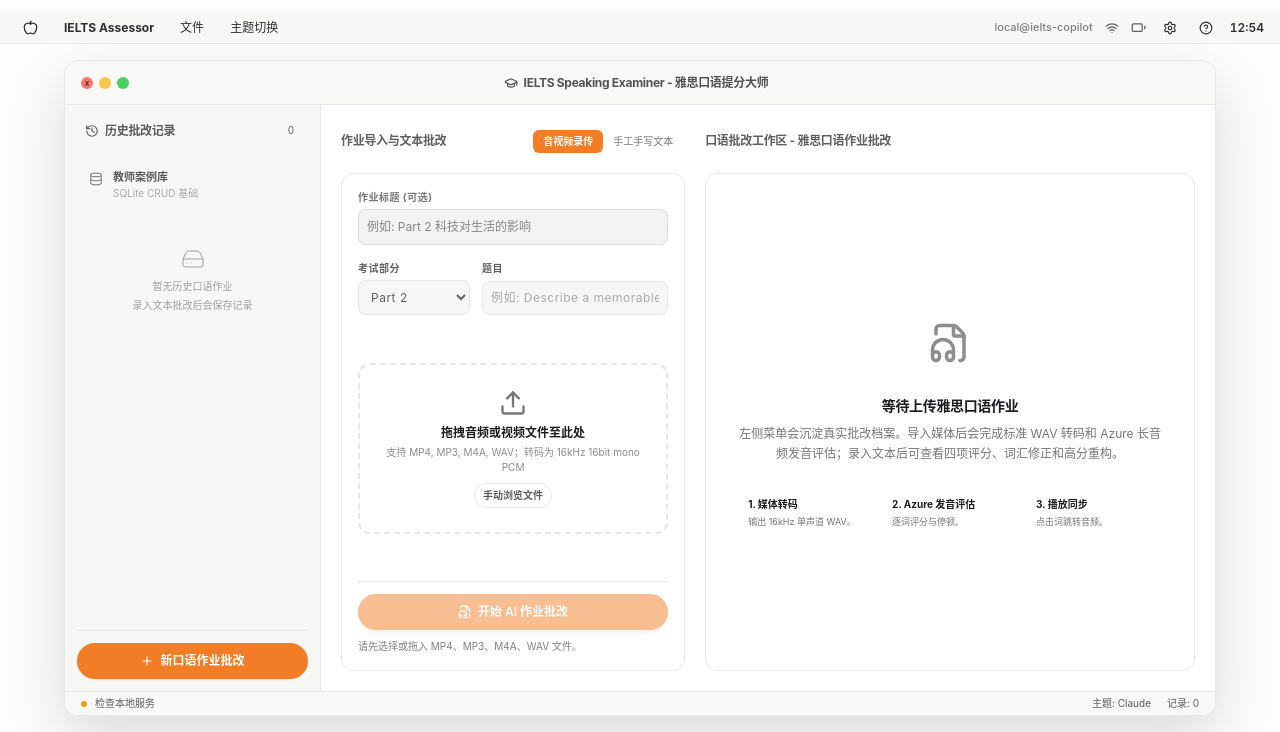
Test: App workspace › loads selected media metadata, transcodes it, and runs Azure speech assessment
Click the button "手动浏览文件": {"x": 513, "y": 495} [474,482,552,508]
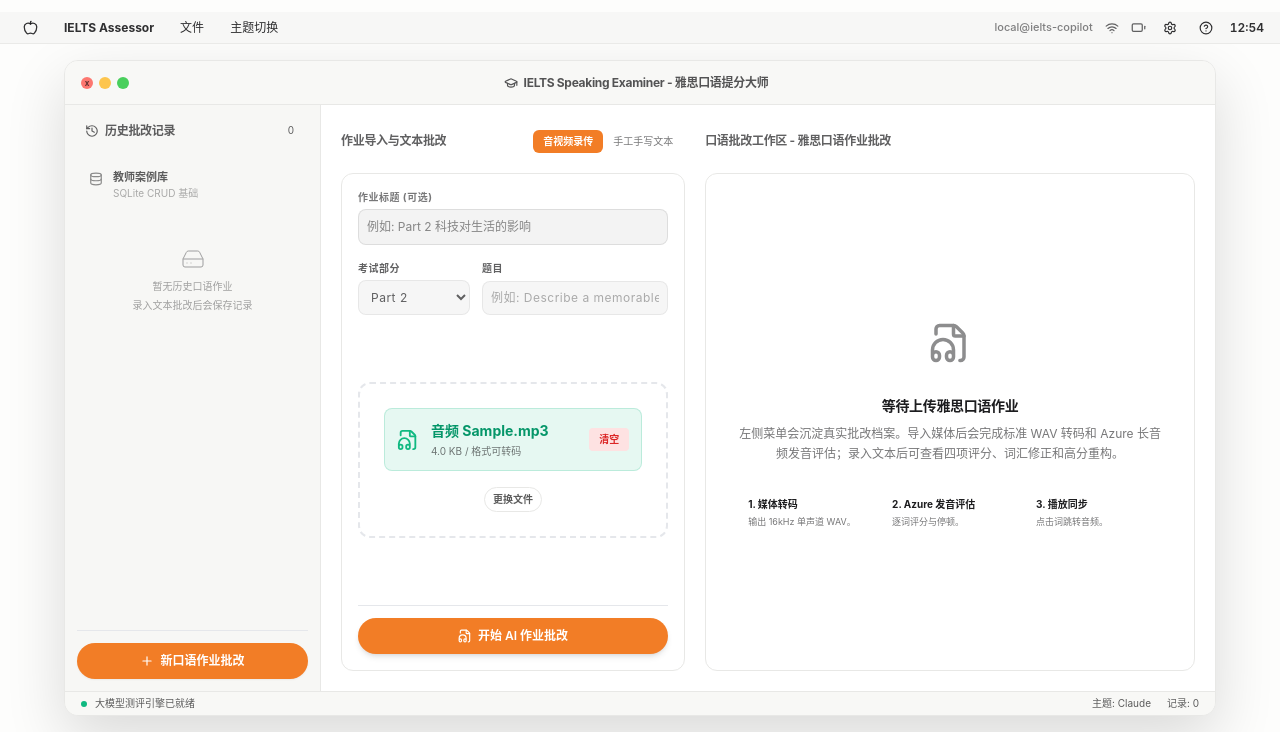
Expected: the text "音频 Sample.mp3" is shown, [431,421,549,441]
Expected: the button "更换文件" is shown, [484,487,542,512]
Expected: the text "拖拽音频或视频文件至此处" is gone
Click the button "开始 AI 作业批改": {"x": 513, "y": 636} [358,618,668,654]
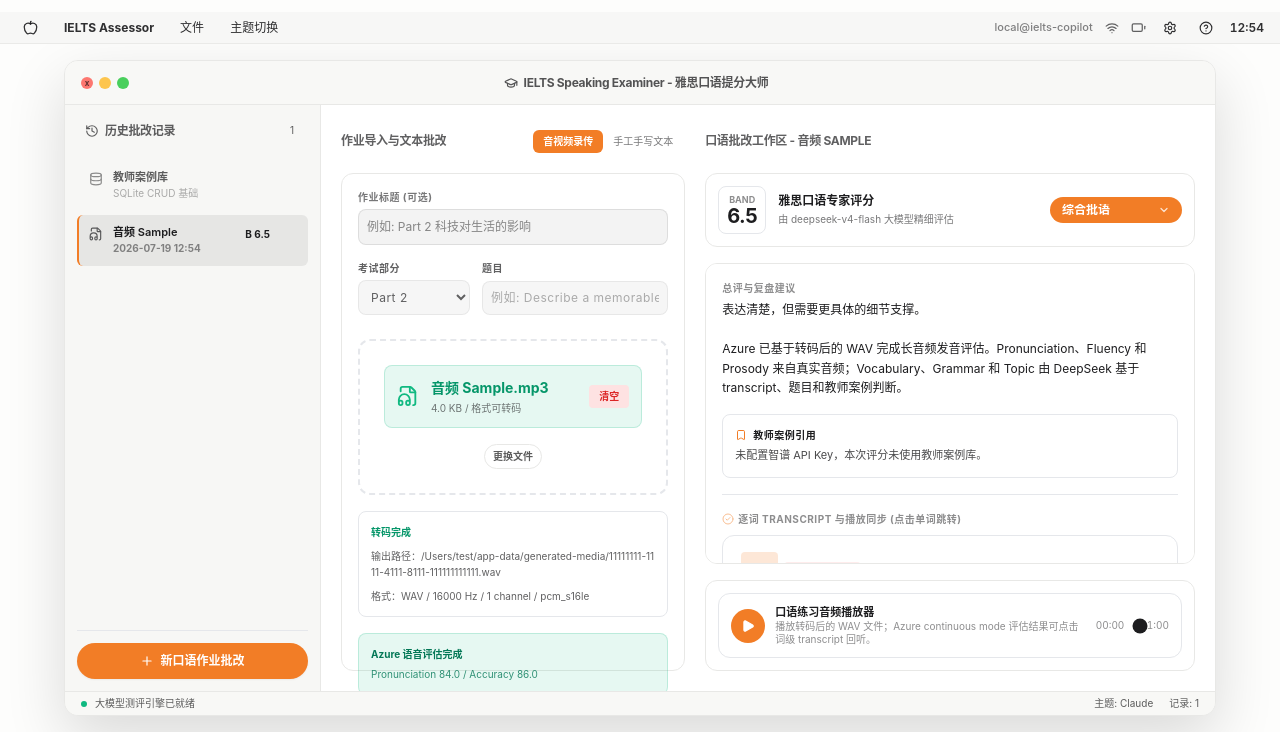
Expected: the text "Azure 语音评估完成" is shown, [371,648,463,660]
Expected: the text "格式：WAV / 16000 Hz / 1 channel / pcm_s16le" is shown, [371,590,589,602]
Expected: the text "/Users/test/app-data/generated-media/11111111-1111-4111-8111-111111111111.wav" is shown, [371,550,654,578]
